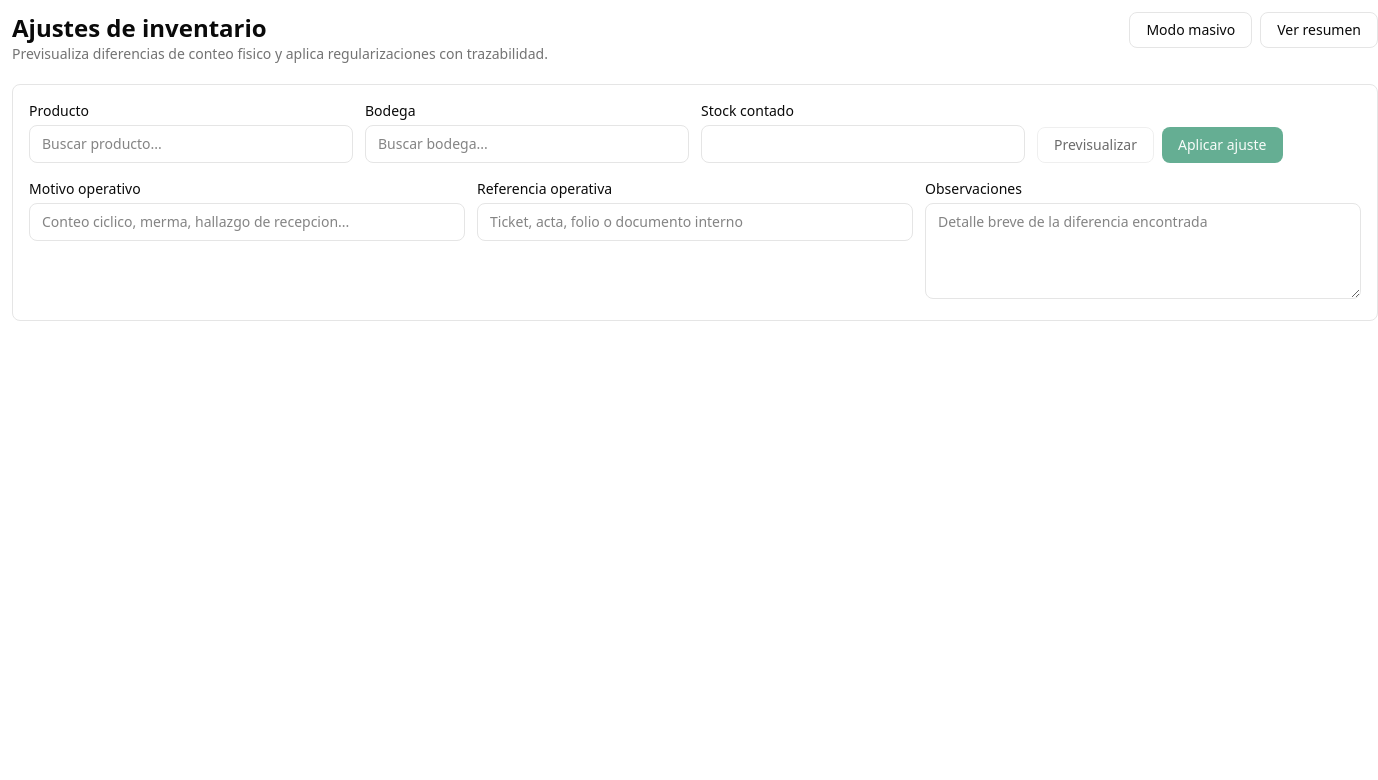
Scenario: inventario/InventarioAjustesPage › bloquea el ajuste si el producto requiere lote y no se informa
Expected: the heading "Ajustes de inventario" is shown, left=12, top=11, right=267, bottom=44
Type "Pint" into the dropdown named "Producto ajuste". click: (191, 144)
box: left=29, top=125, right=353, bottom=163
Then press Enter
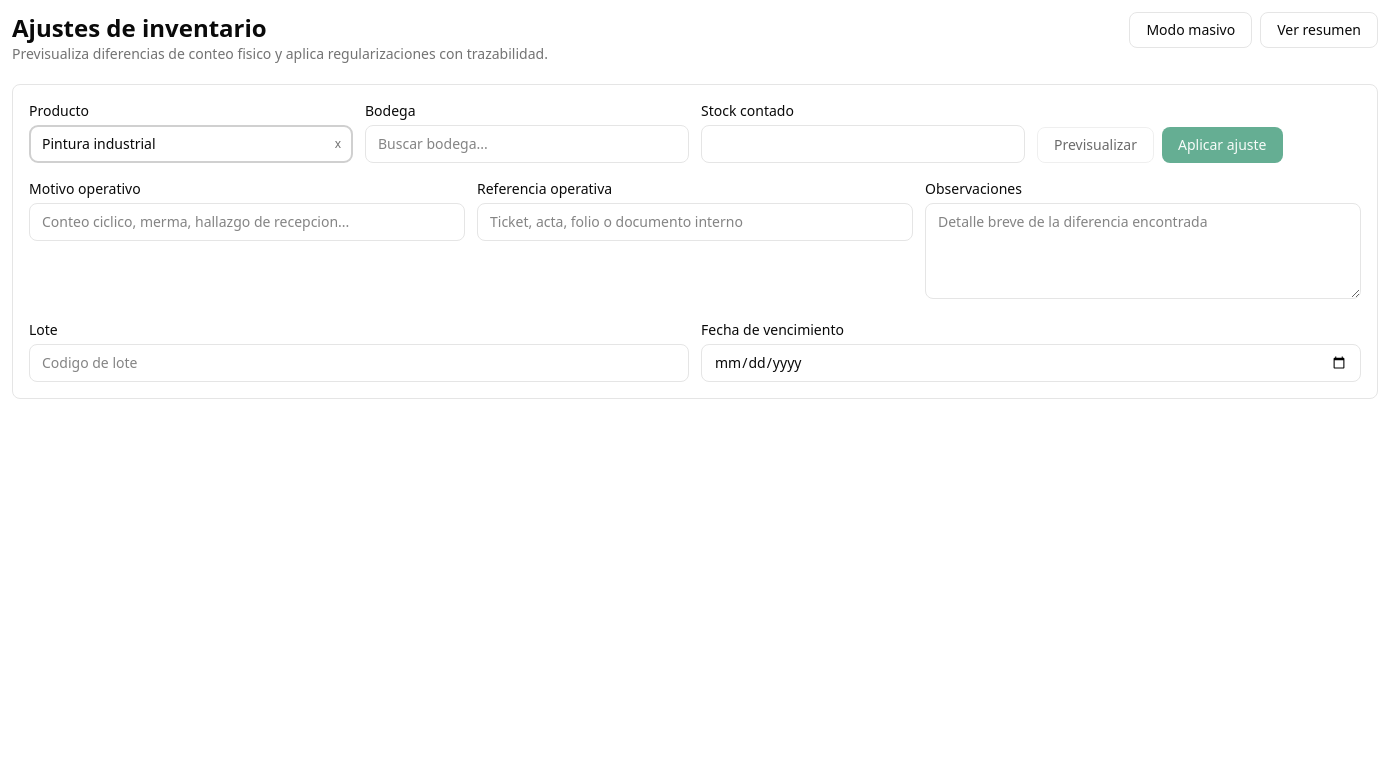
Type "Prin" into the dropdown named "Bodega ajuste". click: (527, 144)
box: left=365, top=125, right=689, bottom=163
Then press Enter
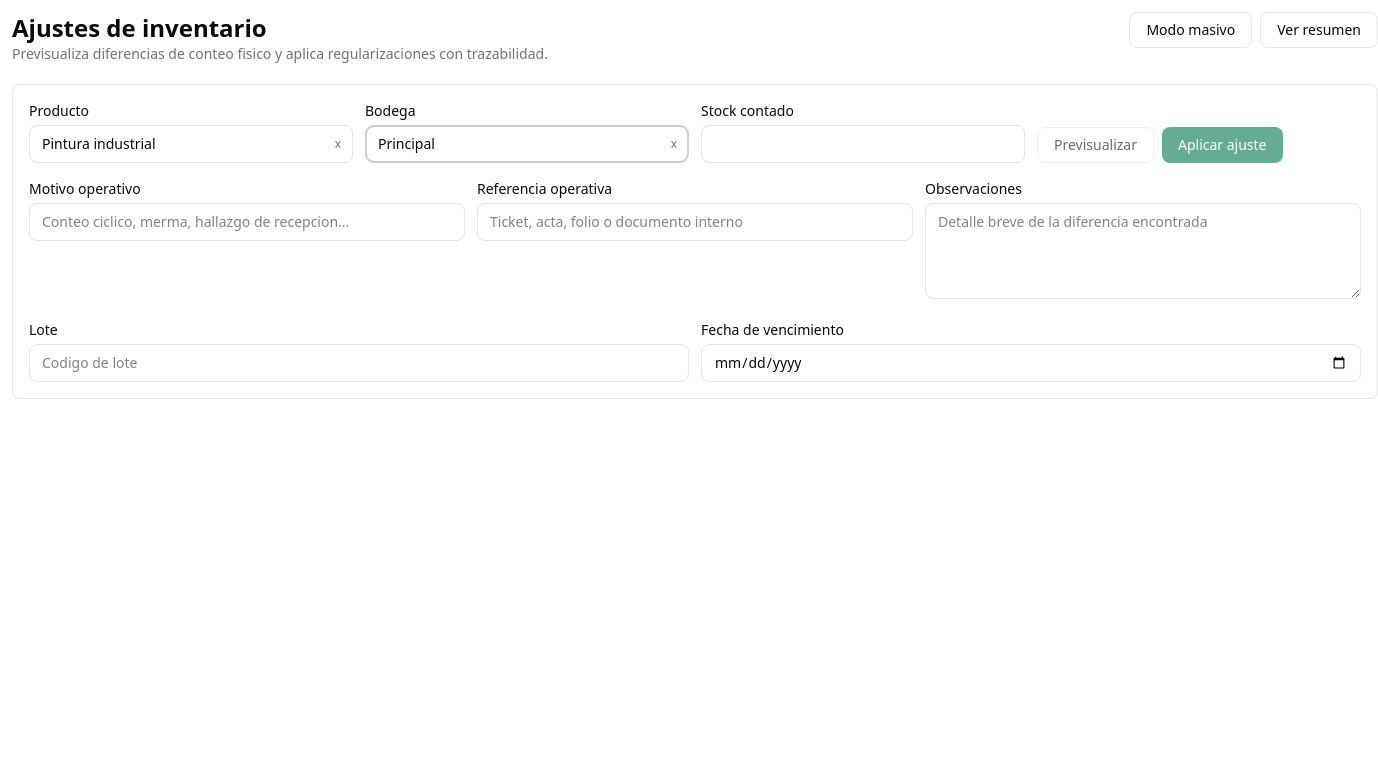
Type "7" into the number field labelled "Stock contado". click: (863, 144)
box: left=701, top=125, right=1025, bottom=163
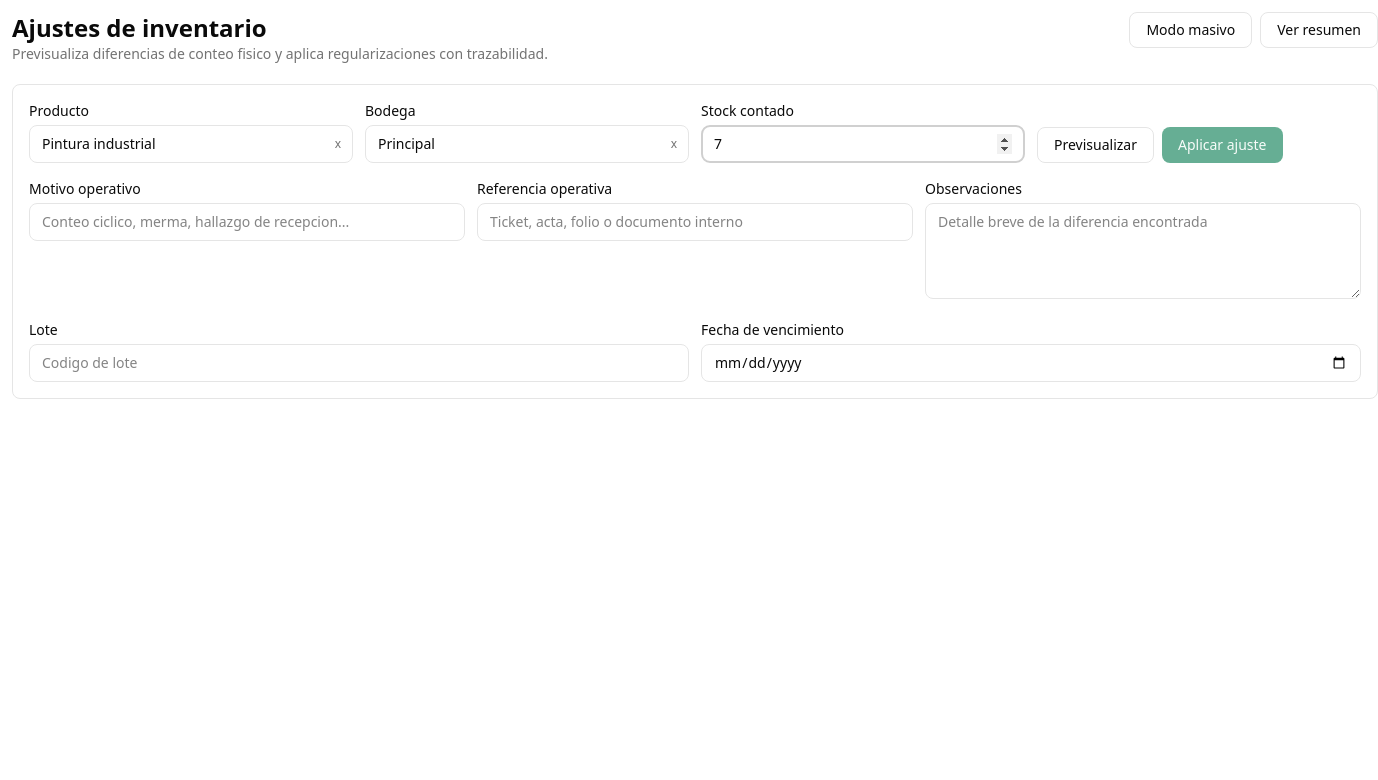
Click the button "Previsualizar". click: (1096, 145)
box: left=1037, top=127, right=1154, bottom=163
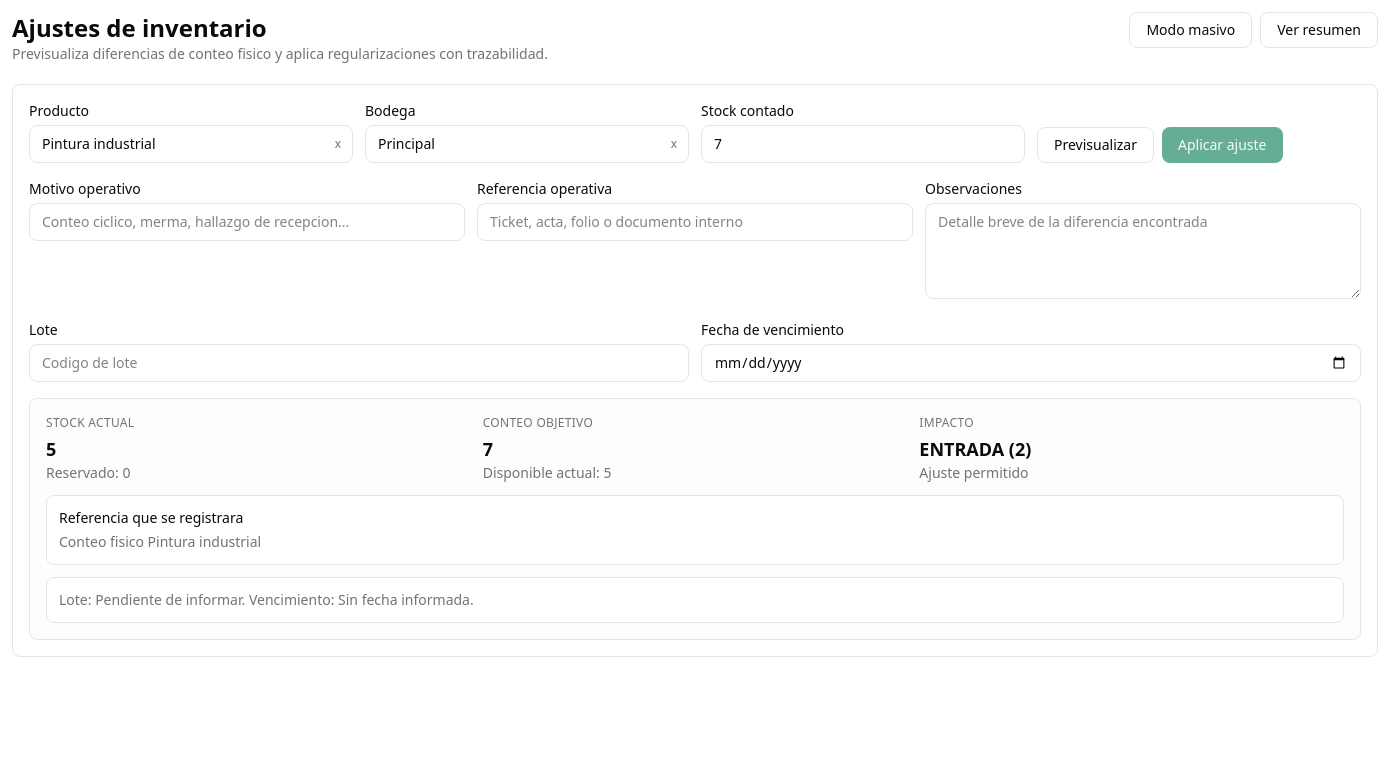
Type "Conteo por lote" into the field labelled "Motivo operativo". click: (247, 222)
box: left=29, top=203, right=465, bottom=241
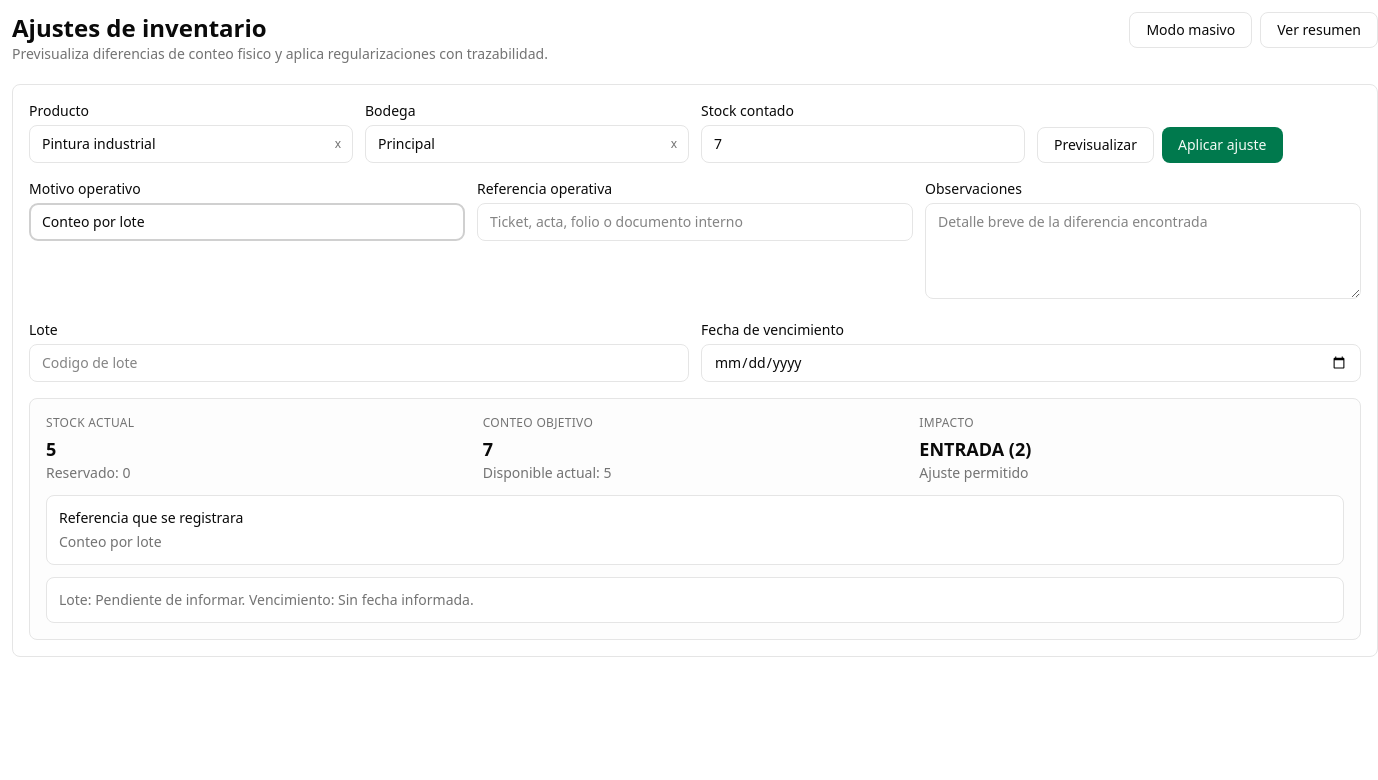
Click the button "Aplicar ajuste". click: (1222, 145)
box: left=1162, top=127, right=1283, bottom=163
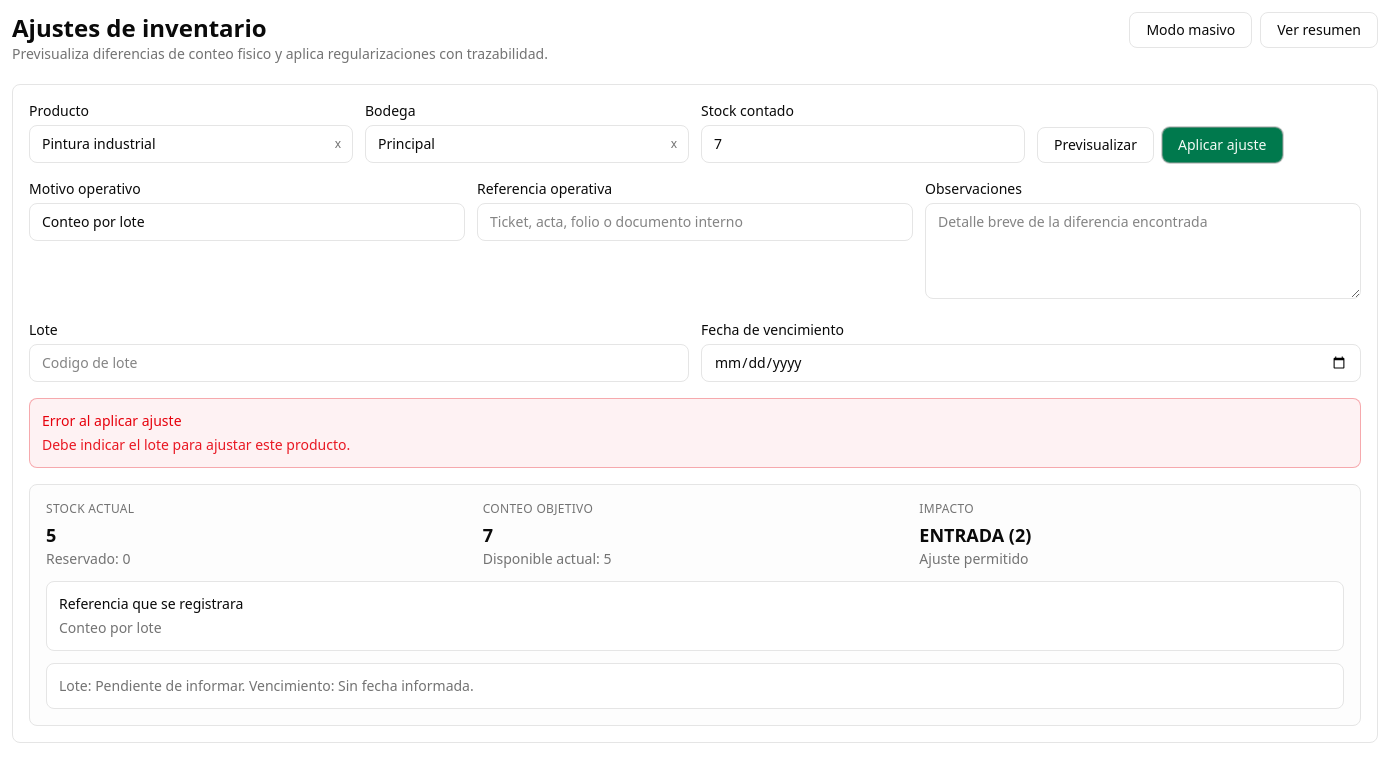
Now the text "Error al aplicar ajuste" is shown, box left=42, top=411, right=182, bottom=430
Now the text "Debe indicar el lote para ajustar este producto." is shown, box left=42, top=435, right=350, bottom=454
